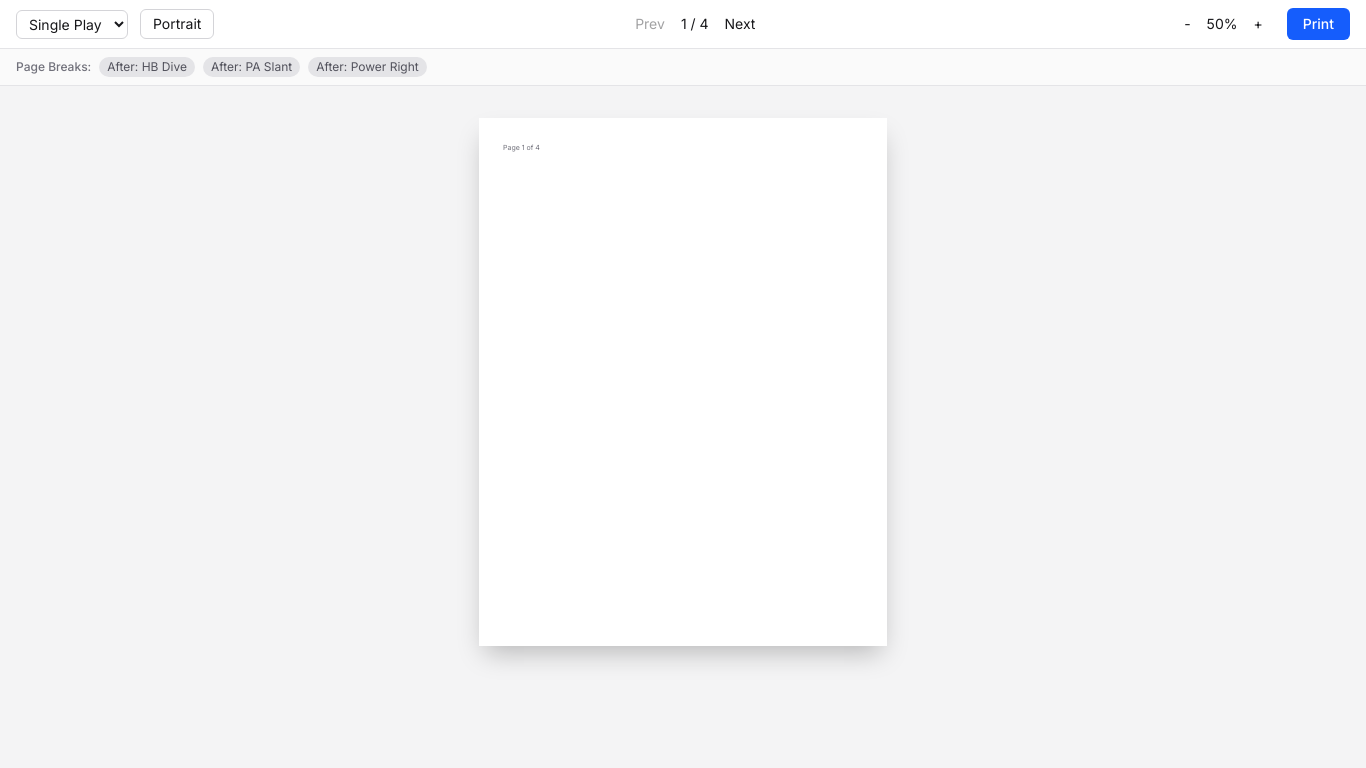
Test case: PrintPreviewAdvanced › zoom in increases zoom level
This screenshot has width=1366, height=768.
Click the button with test id "zoom-in-btn" at (1258, 24), box [1246, 10, 1271, 38]
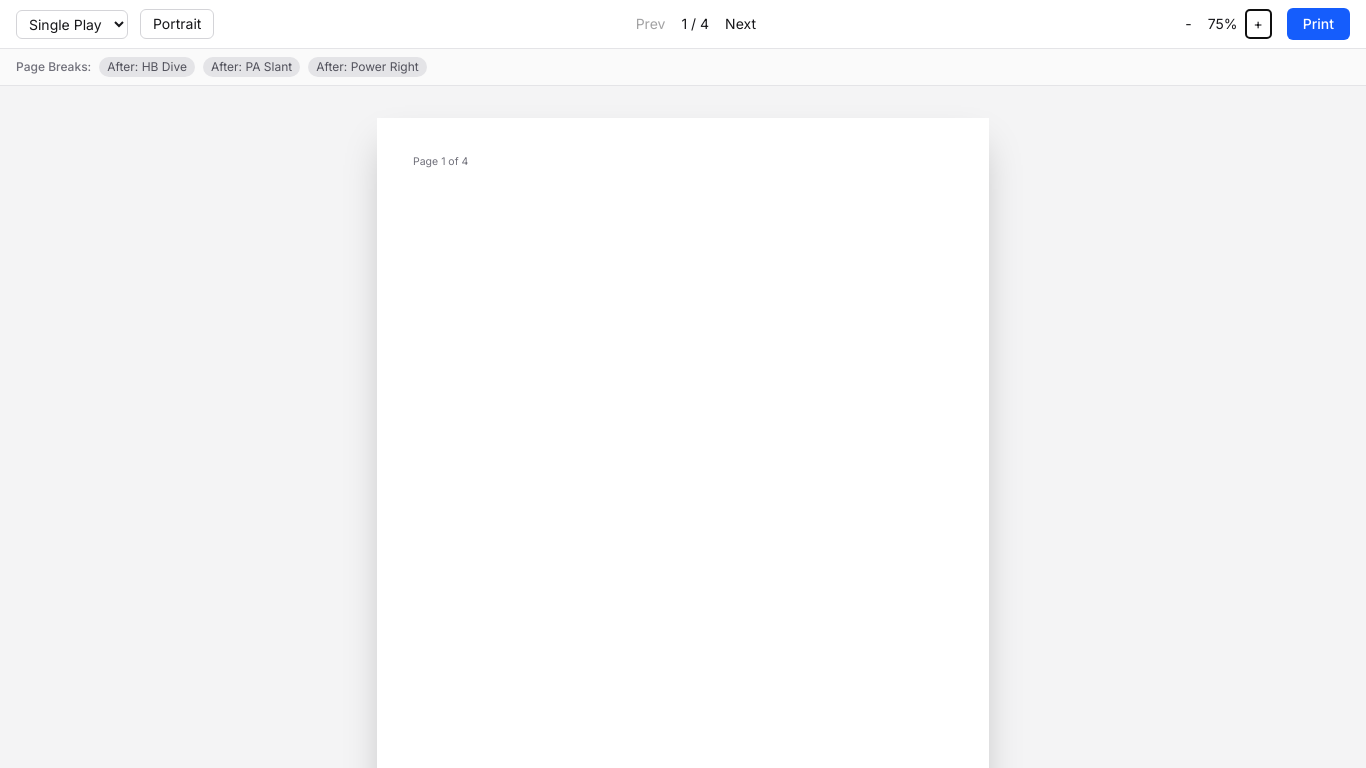
Check: the text with test id "zoom-level" reads "75%", box [1208, 14, 1238, 34]
